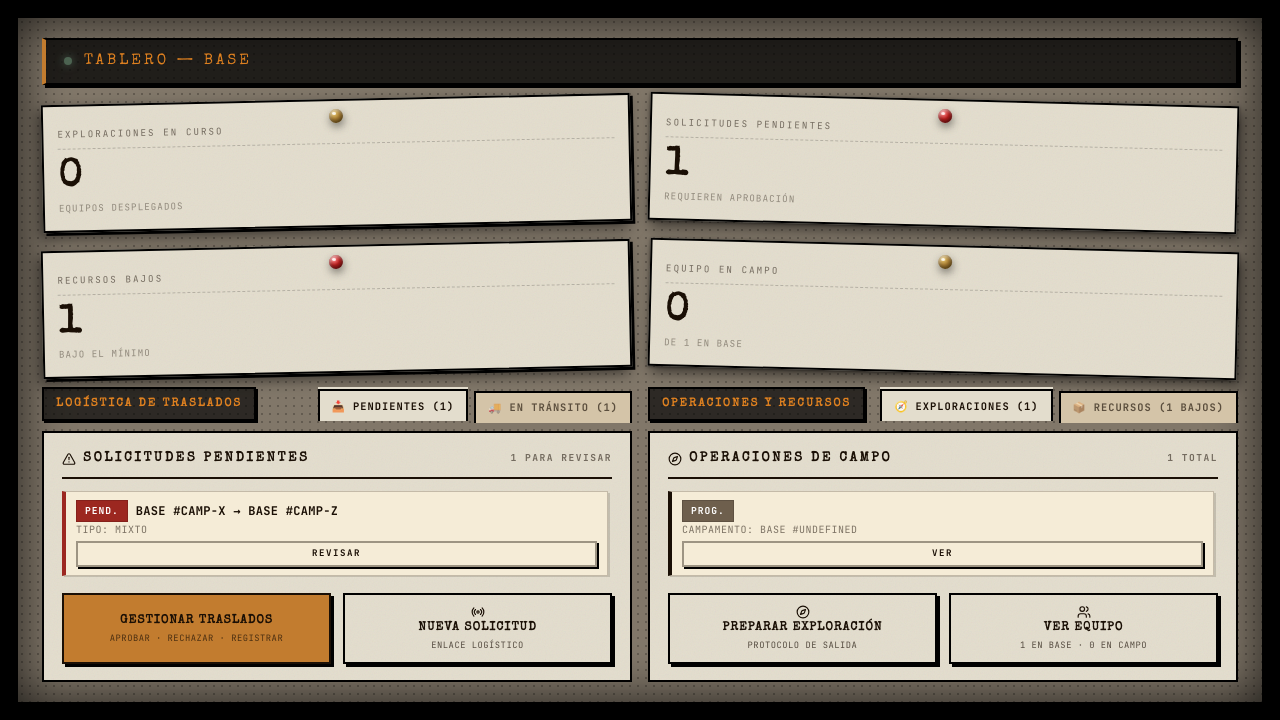
Test: TravelDashboard › renders fallback dashboard data and mid level resource bars
Expected: the heading "TABLERO — BASE" is shown, [84,50,252,73]
Expected: the text "Base #CAMP-X → Base #CAMP-Z" is shown, [136,503,338,519]
Click the button "🚚 EN TRÁNSITO (1)" at (553, 407), box [474,391,632,423]
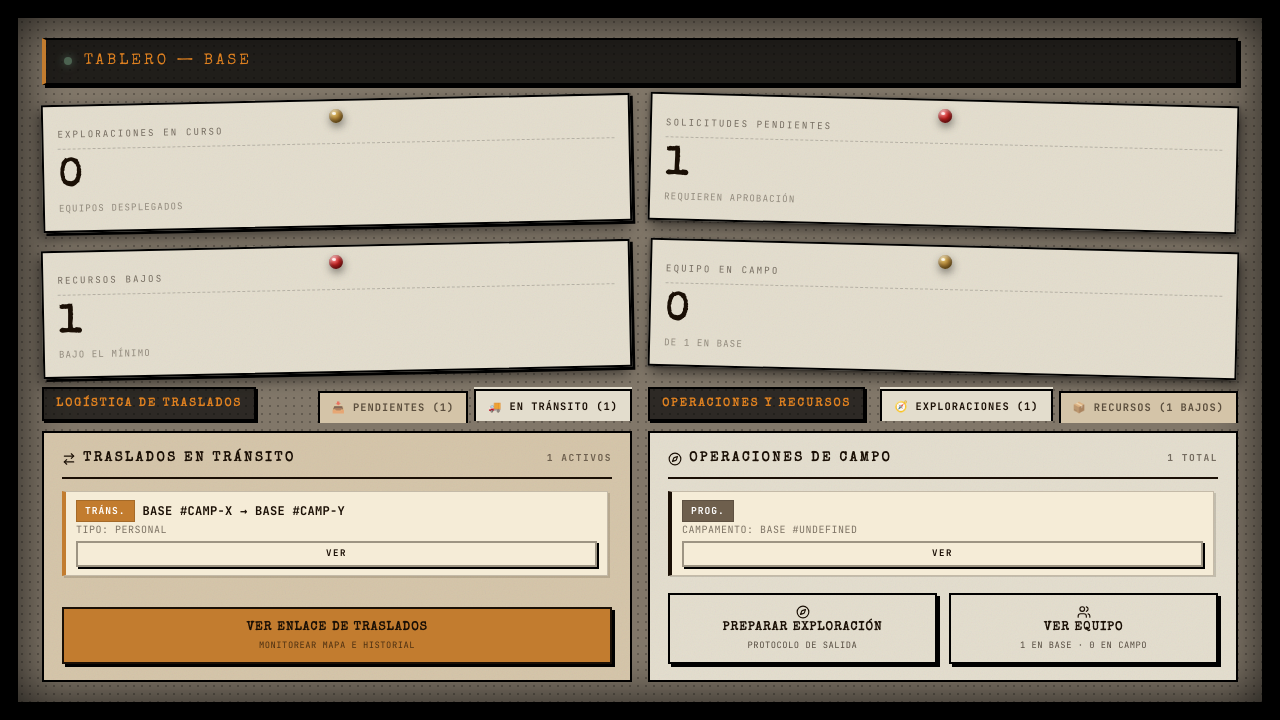
Now the text "Tipo: Personal" is shown, box [76,523,167,536]
Click the button "📦 RECURSOS (1 BAJOS)" at (1148, 407), box [1059,391,1238,423]
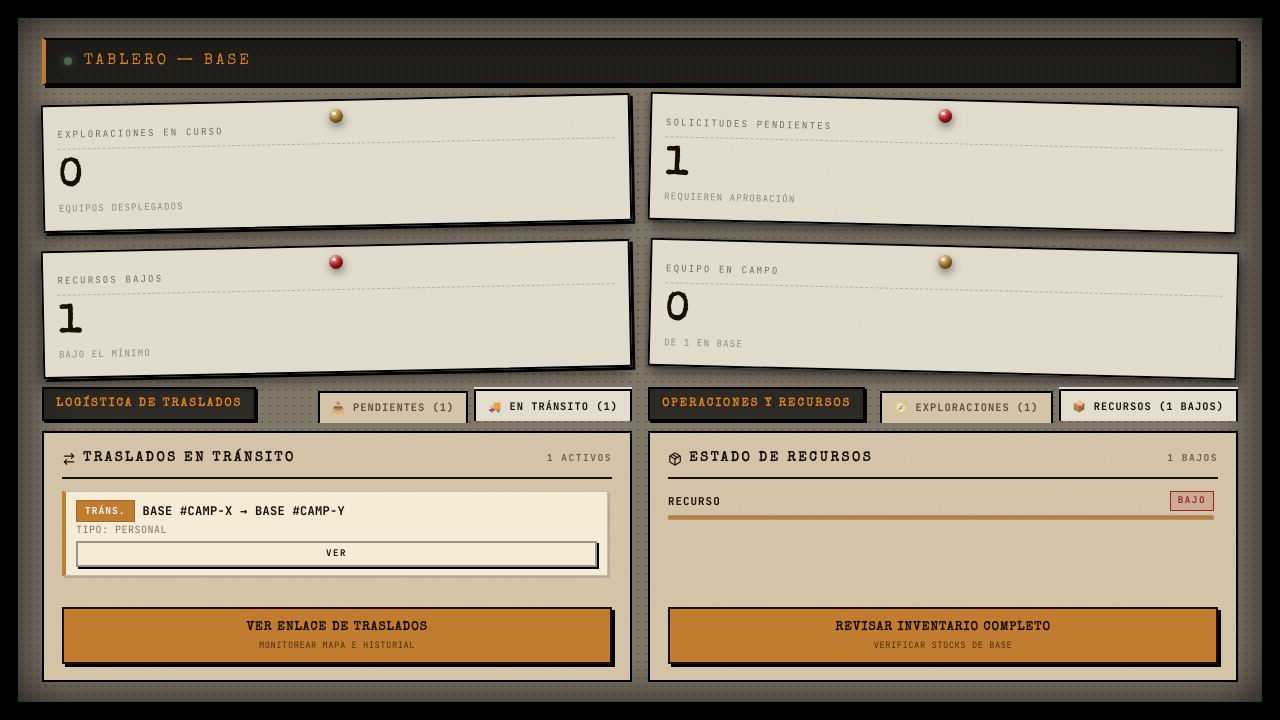
Now the text "Recurso" is shown, box [668,492,721,509]
Now the text "Bajo" is shown, box [1170,491,1214,511]
